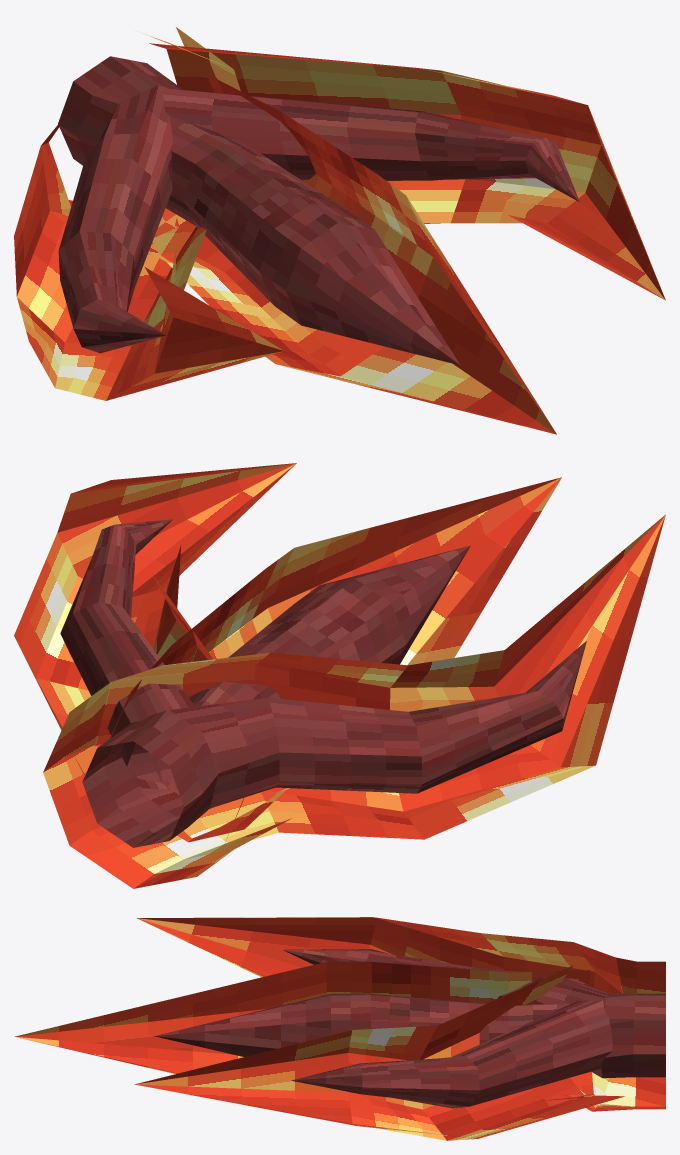
File: tree-hell-top.glb
The picture shows the model from 3 angles, top to bottom: view 1: azimuth 30°, elevation 25°; view 2: azimuth 150°, elevation 25°; view 3: azimuth 270°, elevation 25°; orthographic projection. The views are drawn at different scales.
Parts seen in each view (by area): view 1: tree-hell-top; view 2: tree-hell-top; view 3: tree-hell-top.
Boxes of the visible parts, <box> form: tree-hell-top: <box>14,27,665,434</box>; tree-hell-top: <box>14,463,665,888</box>; tree-hell-top: <box>14,917,665,1140</box>.
Bounding box in the file's own units: 1.53 × 0.5391 × 2.07.
2 materials, 2 textured.
